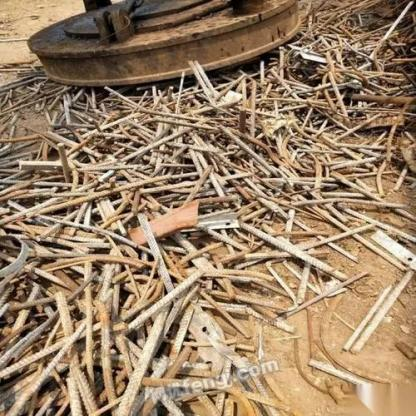rebar: (1, 0, 415, 415)
